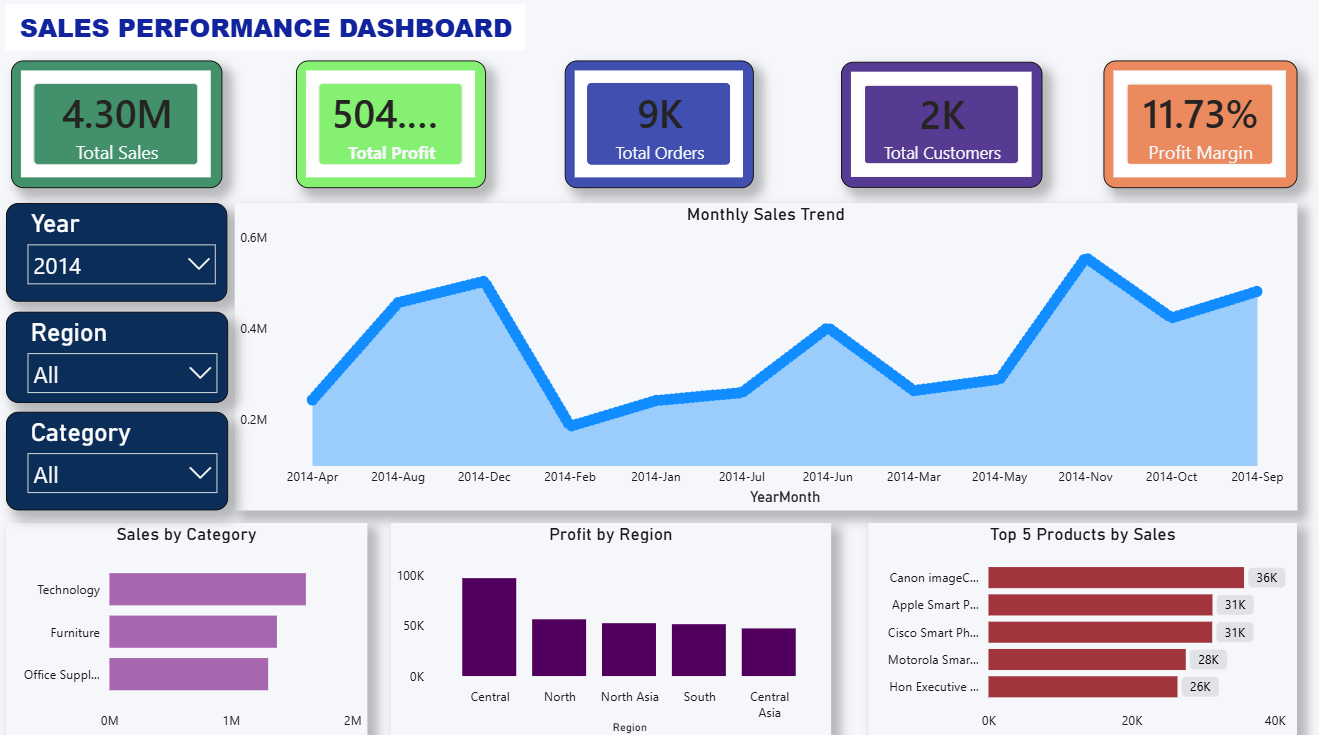

The page's visual inventory and layout, read from the dashboard file:
{"tool":"powerbi","page":{"name":"Page 1","canvas":[1280,720],"ordinal":0},"visuals":[{"type":"cardVisual","fields":{"Data":["Global_Superstore2.Total Sales"]},"box":[14.5,65.1,203.9,123.1],"z":0},{"type":"cardVisual","fields":{"Data":["Global_Superstore2.Total Profit"]},"box":[289.5,65.1,183.4,123.1],"z":1000},{"type":"cardVisual","fields":{"Data":["Global_Superstore2.Total Orders"]},"box":[548.9,65.1,182.2,123.1],"z":2000},{"type":"cardVisual","fields":{"Data":["Global_Superstore2.Total Customers"]},"box":[815.6,66.4,194.2,121.9],"z":3000},{"type":"cardVisual","fields":{"Data":["Global_Superstore2.Profit Margin"]},"box":[1068.9,65.1,187,123.1],"z":4000},{"type":"slicer","fields":{"Values":["Date Table.Year"]},"box":[9.7,202.7,213.5,95.3],"z":5000},{"type":"lineChart","title":"Monthly Sales Trend","fields":{"Y":["Sum(Global_Superstore2.Sales)"],"Category":["Date Table.YearMonth"]},"box":[230.4,202.7,1025.5,296.8],"z":6000},{"type":"clusteredBarChart","title":"Sales by Category","fields":{"Y":["Sum(Global_Superstore2.Sales)"],"Category":["Global_Superstore2.Category"]},"box":[9.7,511.5,348.7,208.7],"z":7000},{"type":"clusteredColumnChart","title":"Profit by Region","fields":{"Category":["Global_Superstore2.Region"],"Y":["Global_Superstore2.Total Profit"]},"box":[381.2,511.5,424.7,208.7],"z":8000},{"type":"clusteredBarChart","title":"Top 5 Products by Sales","fields":{"Y":["Global_Superstore2.Total Sales"],"Category":["Global_Superstore2.Product Name"]},"box":[842.1,511.5,413.8,208.7],"z":9000},{"type":"slicer","fields":{"Values":["Global_Superstore2.Region"]},"box":[9.7,307.6,214.7,88.1],"z":10000},{"type":"slicer","fields":{"Values":["Global_Superstore2.Category"]},"box":[9.7,404.2,214.7,95.3],"z":11000},{"type":"textbox","box":[9.7,10.9,501.9,44.6],"z":12000}]}

Visuals, with their boxes in screenshot pixels (x1, y1, x2, y2), scaled from the page's 1280x720 canvas onto the 1319x735 screenshot:
cardVisual - Global_Superstore2.Total Sales: 15 66 225 192
cardVisual - Global_Superstore2.Total Profit: 298 66 487 192
cardVisual - Global_Superstore2.Total Orders: 566 66 753 192
cardVisual - Global_Superstore2.Total Customers: 840 68 1041 192
cardVisual - Global_Superstore2.Profit Margin: 1101 66 1294 192
slicer - Date Table.Year: 10 207 230 304
"Monthly Sales Trend" lineChart: 237 207 1294 510
"Sales by Category" clusteredBarChart: 10 522 369 734
"Profit by Region" clusteredColumnChart: 393 522 830 734
"Top 5 Products by Sales" clusteredBarChart: 868 522 1294 734
slicer - Global_Superstore2.Region: 10 314 231 404
slicer - Global_Superstore2.Category: 10 413 231 510
textbox: 10 11 527 57
